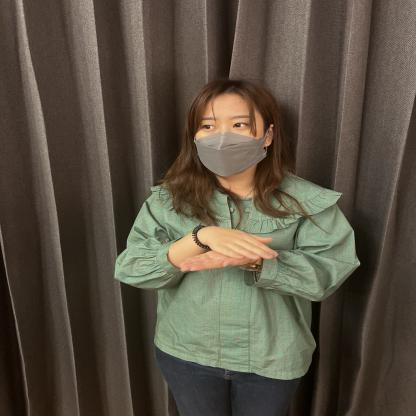Love: (108, 212, 385, 312)
